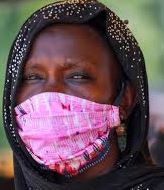with_facemask: (11, 90, 118, 181)
